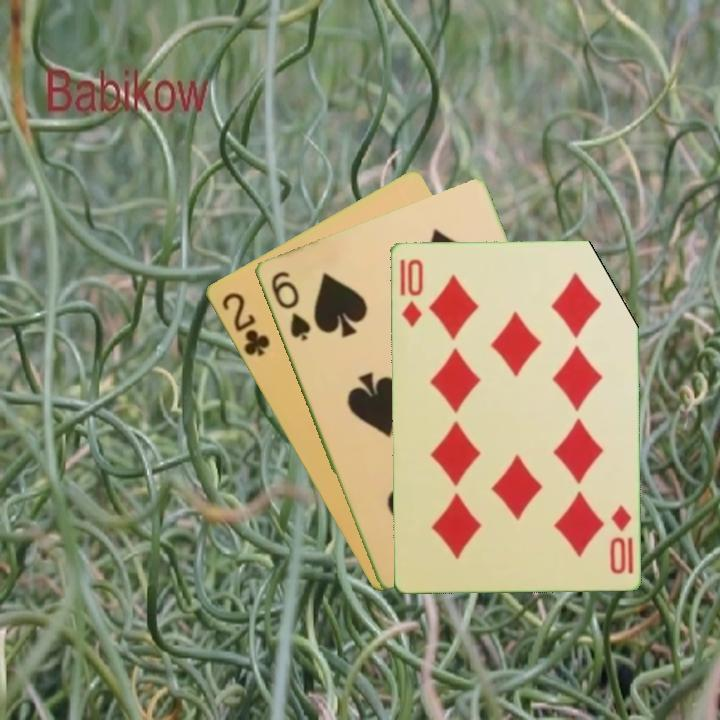10d: (398, 254, 426, 330), (606, 501, 633, 576)
2c: (217, 288, 273, 360)
6s: (267, 267, 314, 344)
